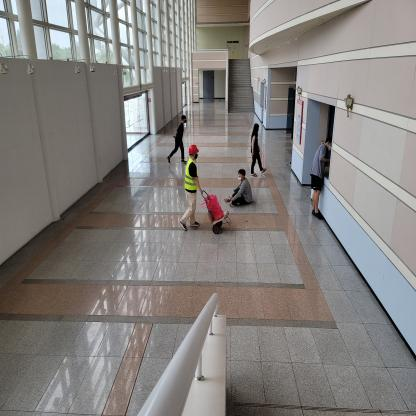Sitting: (223, 168, 253, 207)
Standing: (179, 144, 204, 232), (310, 136, 332, 220), (167, 114, 187, 165), (250, 123, 266, 177)
safety_equipment: (184, 158, 198, 190), (189, 144, 199, 154)
